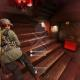Character: (0, 18, 43, 80), (20, 0, 27, 15)
Head: (0, 19, 13, 30), (21, 0, 23, 4)
